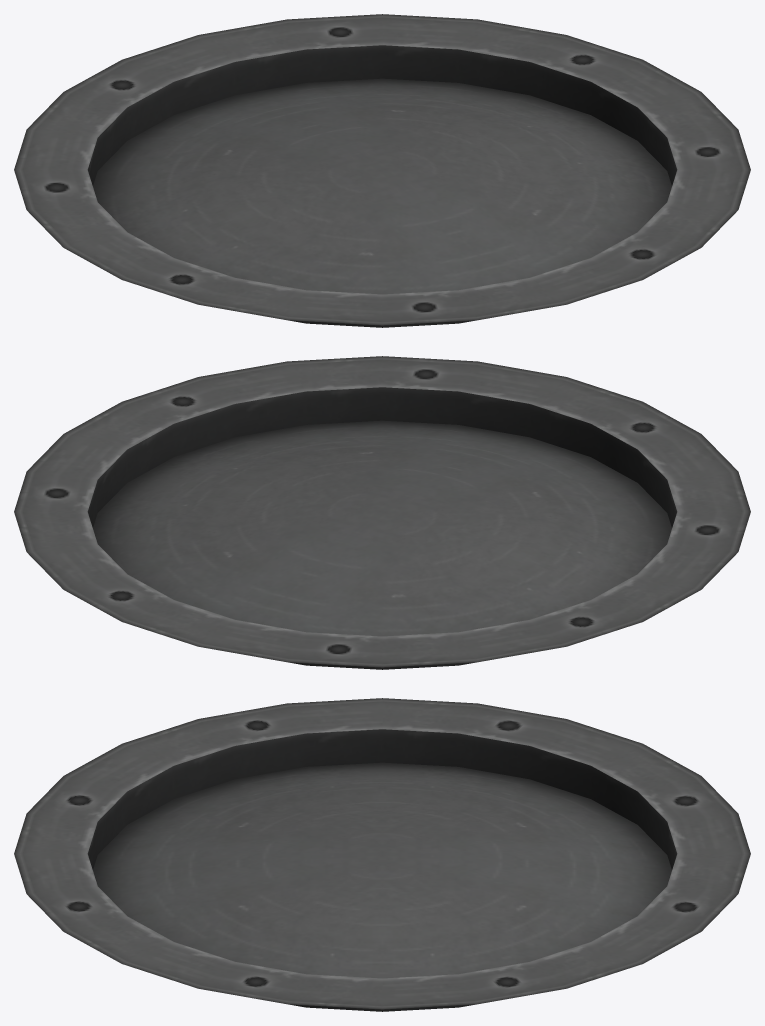
File: end_basic_s1.obj
3 renders of one model, top to bottom at view 1: azimuth 30°, elevation 25°; view 2: azimuth 150°, elevation 25°; view 3: azimuth 270°, elevation 25°, orthographic.
Parts seen in each view (by area): view 1: end; view 2: end; view 3: end.
Boxes of the visible parts, x1=… form: end: x1=14, y1=14, x2=750, y2=327; end: x1=14, y1=356, x2=750, y2=669; end: x1=14, y1=698, x2=750, y2=1011.
Size of the model in its own units: 1.25 by 0.0625 by 1.25.
